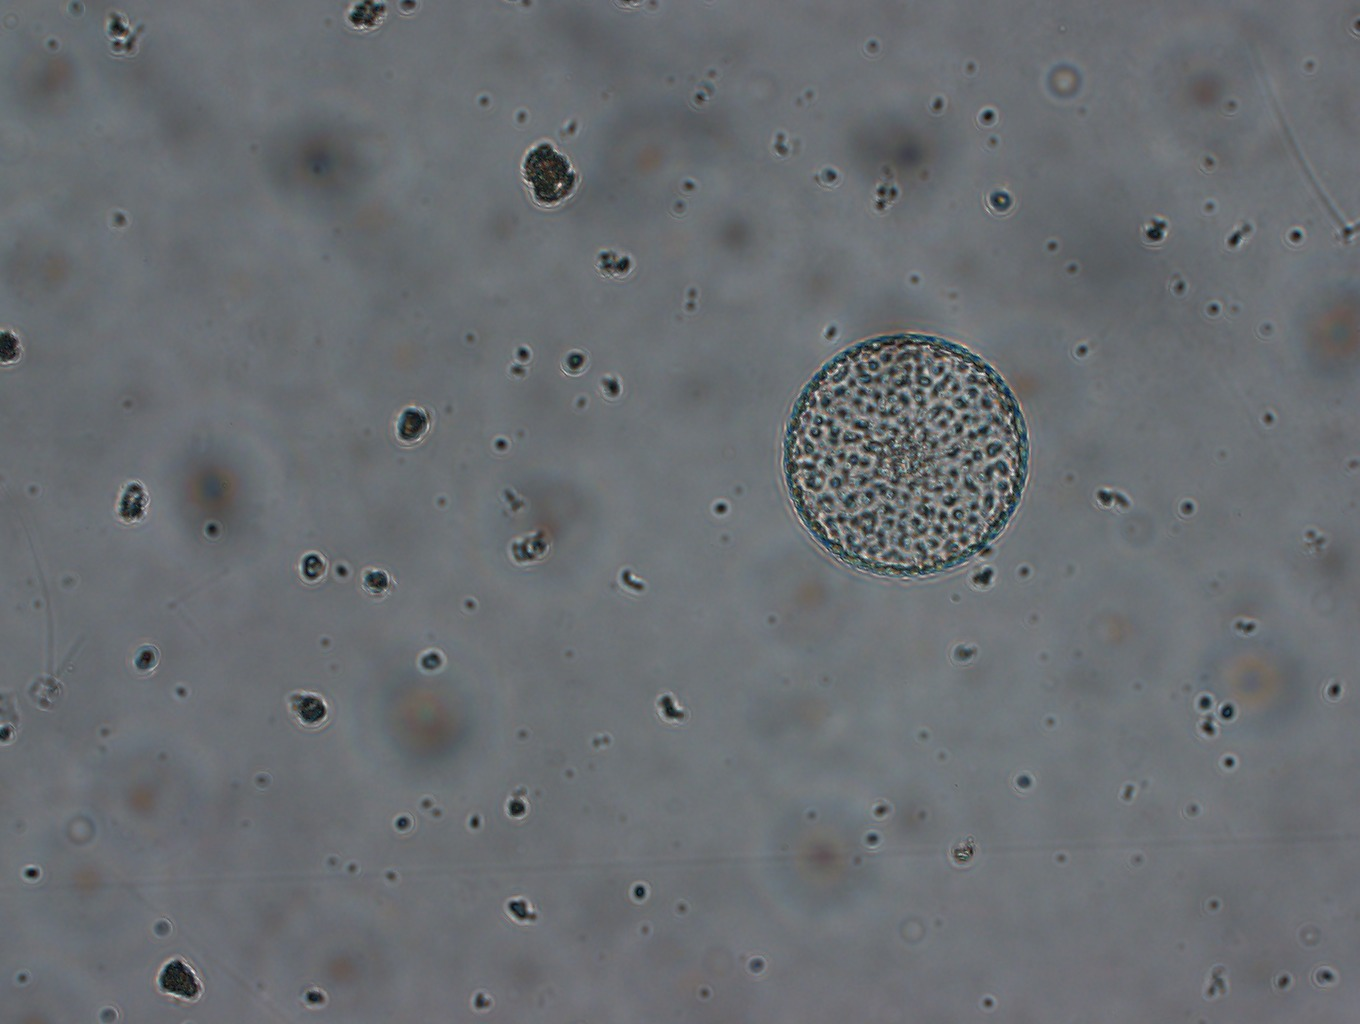coscinodiscus: (776, 326, 1035, 584)
